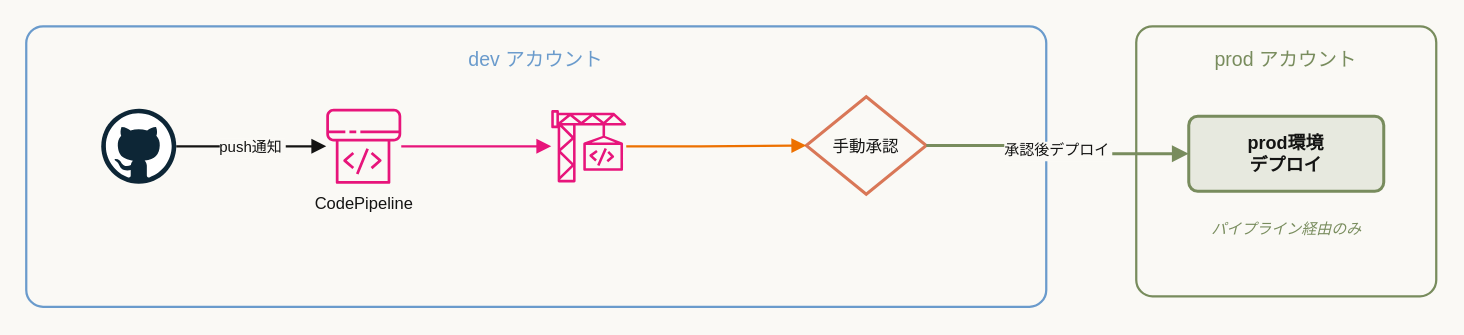
The diagram is 1464 pixels wide and 335 high, and some of its shapes have lost their labels. Each missing label, with the centre of its shape:
CodeBuild ビルド・テスト: (x=588, y=145)
GitHub main branch: (x=138, y=145)
